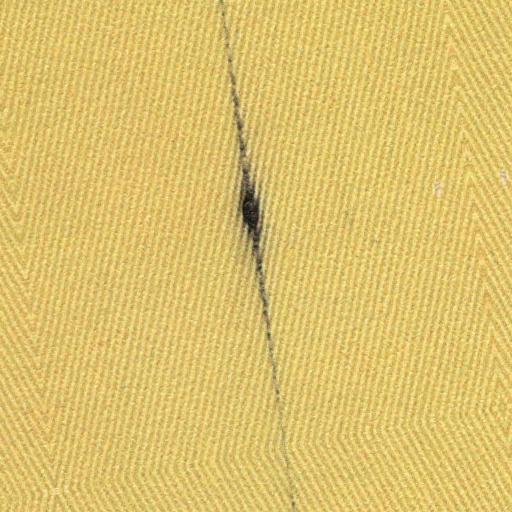stain: (203, 0, 314, 511)
